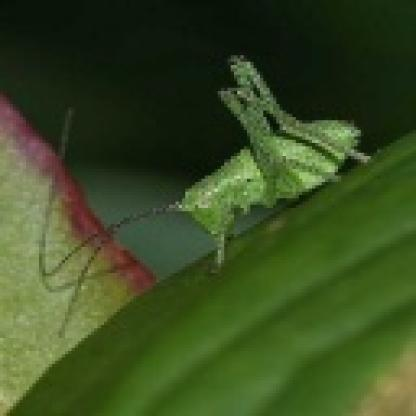grasshopper: (92, 59, 390, 260)
